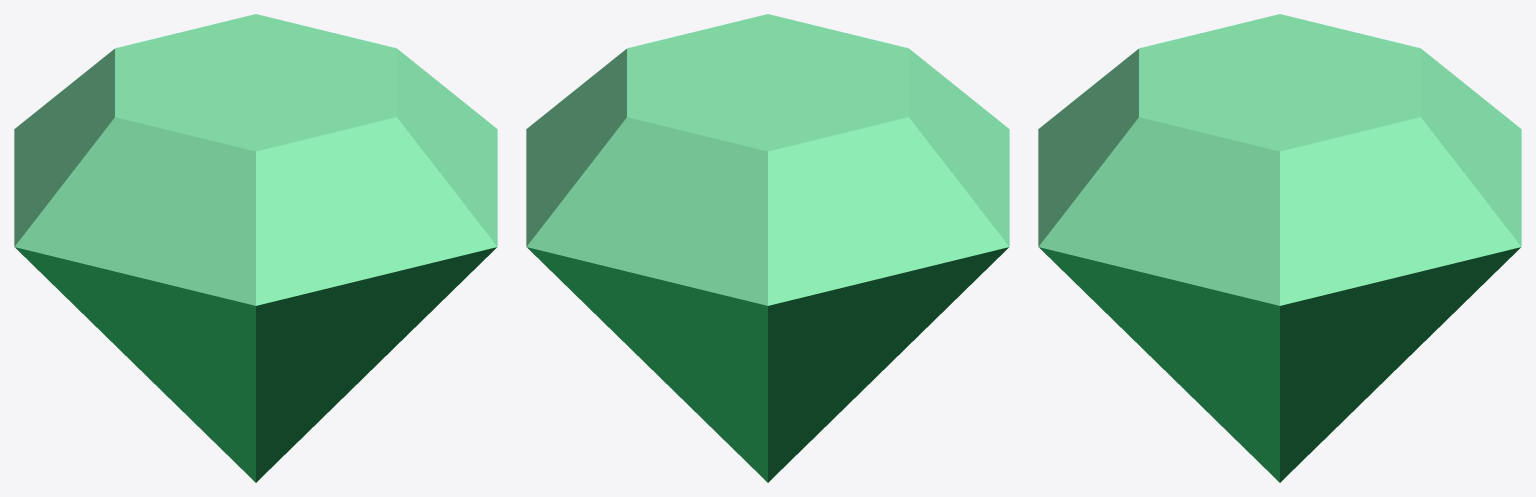
The model's file is drop_gem_green.glb.
3 views of the same model, side by side, from view 1: azimuth 30°, elevation 25°; view 2: azimuth 150°, elevation 25°; view 3: azimuth 270°, elevation 25° (orthographic).
Visible parts, largest first — view 1: drop_gem_green; view 2: drop_gem_green; view 3: drop_gem_green.
Boxes of the visible parts, x1,y1,x2,y2 form: drop_gem_green: [14, 14, 497, 482]; drop_gem_green: [526, 14, 1009, 482]; drop_gem_green: [1038, 14, 1521, 482].
Bounding box in the file's own units: 0.12 × 0.095 × 0.1039.
